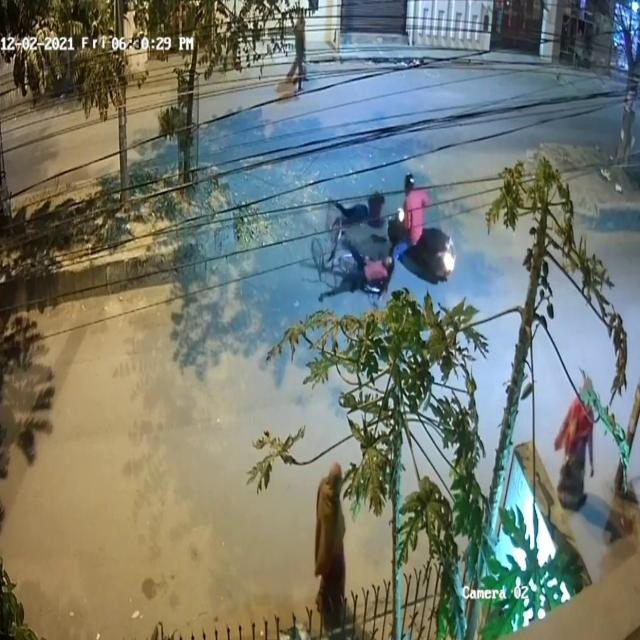accident: (316, 164, 460, 320)
